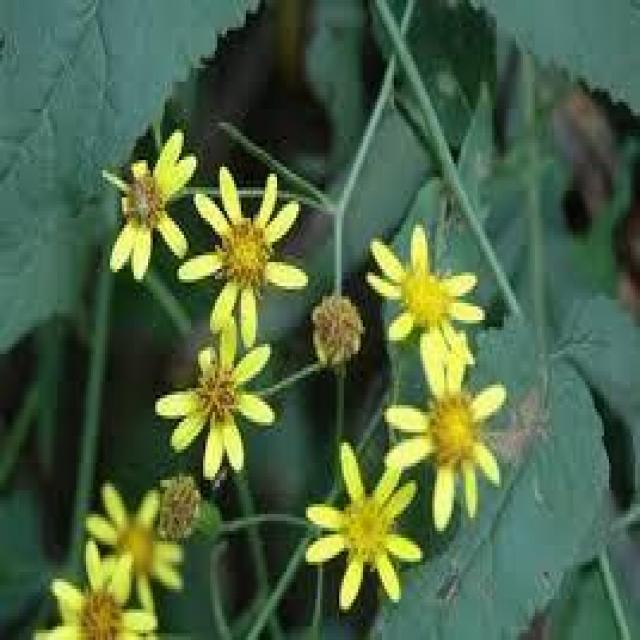organic waste: (293, 434, 443, 615), (382, 339, 516, 529), (182, 162, 310, 349), (354, 218, 494, 371), (148, 323, 277, 480), (68, 458, 190, 594), (104, 141, 204, 271), (30, 565, 154, 637)
